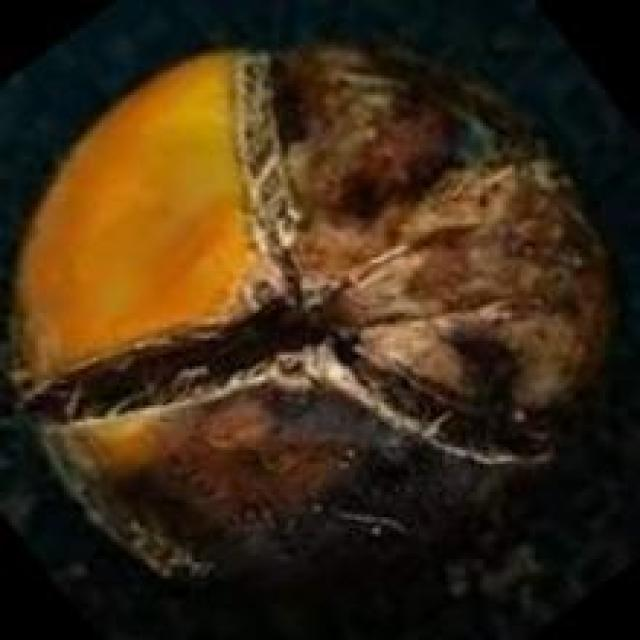damaged: (15, 45, 614, 598)
